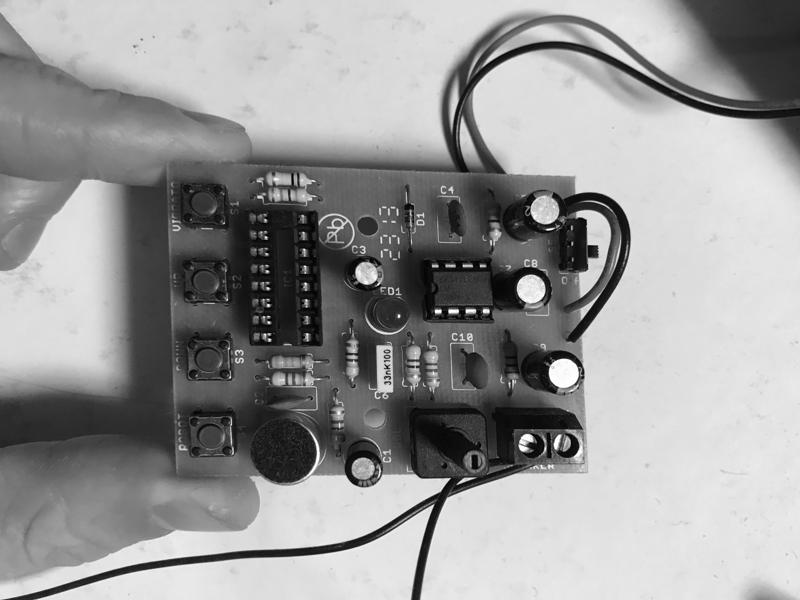Capacitor: (501, 188, 568, 244), (487, 264, 554, 317), (520, 349, 585, 398), (344, 437, 384, 492), (341, 256, 386, 293)
Diode: (399, 197, 419, 239)
LED: (364, 293, 412, 333)
Resistor: (497, 336, 521, 389), (482, 194, 503, 248), (401, 340, 423, 391), (259, 169, 315, 189), (264, 370, 321, 389), (326, 398, 347, 449), (341, 333, 361, 385), (422, 345, 441, 396), (264, 353, 317, 371), (260, 186, 316, 203)
